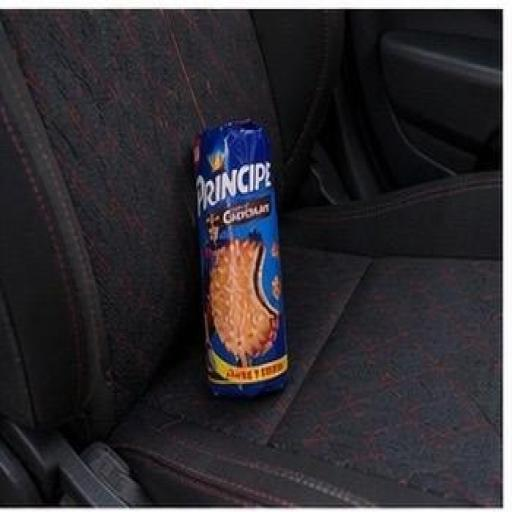prince: (99, 72, 382, 463)
